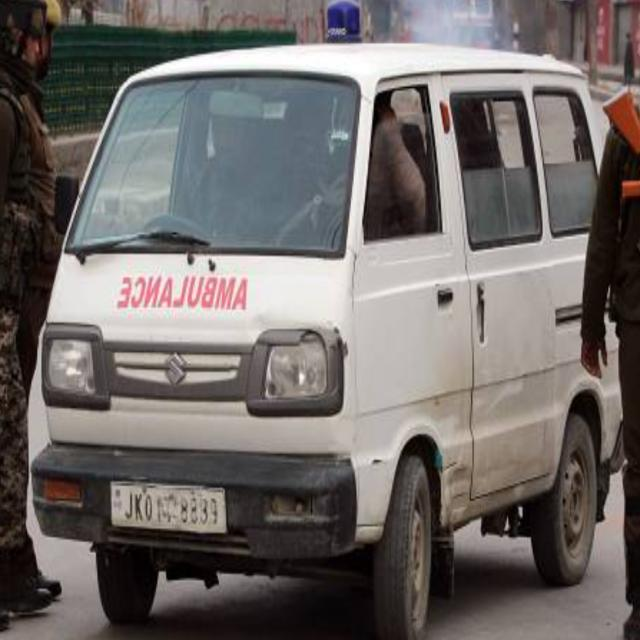emergency_vehicle: (33, 26, 594, 634)
